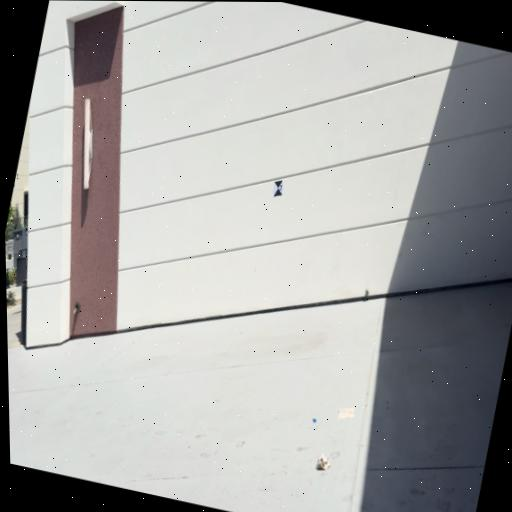target7: (273, 179, 283, 196)
